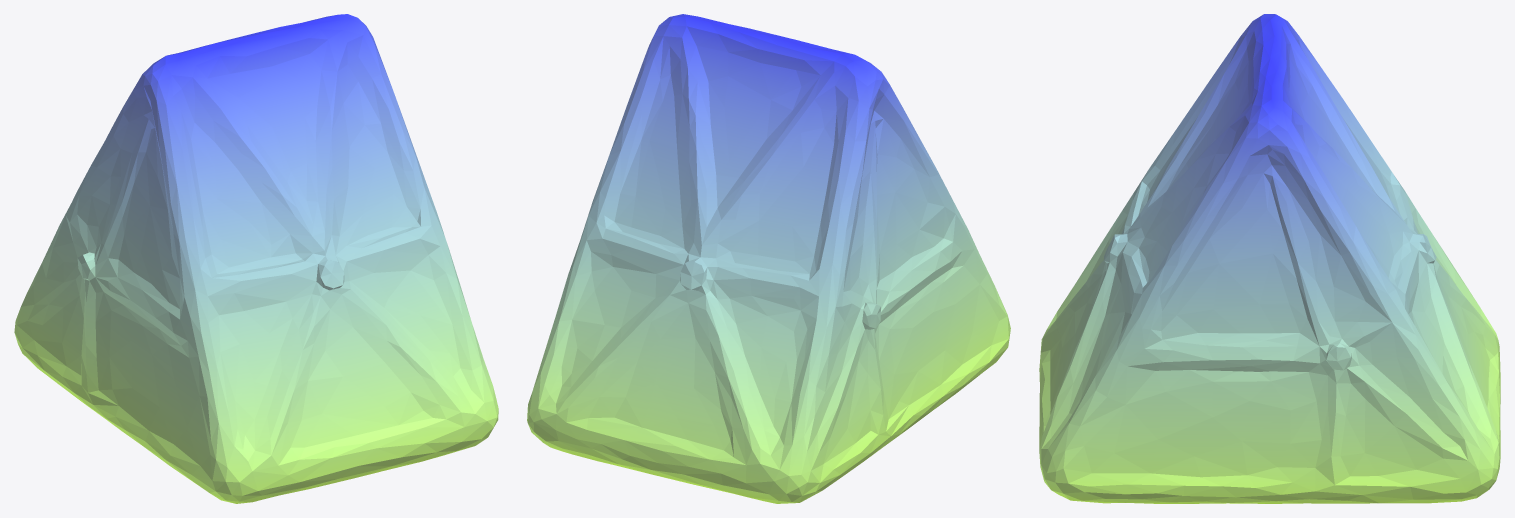
File: 156_cyb_laser_gradient_fish_scales_2883_2026_10_03_3c0018.glb
3 views of the same model, side by side, from view 1: azimuth 30°, elevation 25°; view 2: azimuth 150°, elevation 25°; view 3: azimuth 270°, elevation 25° (orthographic). The views are drawn at different scales.
Parts seen in each view (by area): view 1: geometry_0; view 2: geometry_0; view 3: geometry_0.
Part boxes in pixels (left/top/right/bottom): geometry_0: left=14, top=14, right=498, bottom=503; geometry_0: left=527, top=14, right=1010, bottom=503; geometry_0: left=1039, top=14, right=1500, bottom=503.
Bounding box in the file's own units: 0.7455 × 0.924 × 1.
